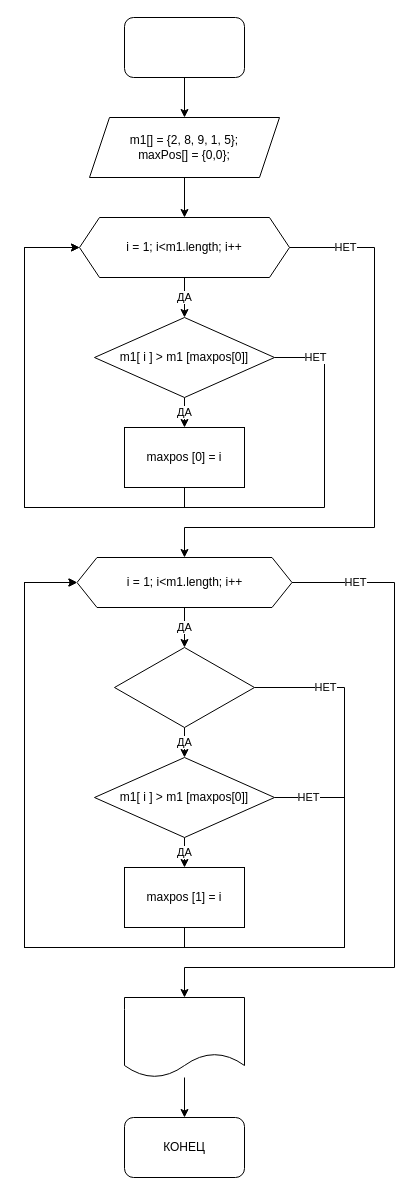
Some shapes in this 420 by 1195 pixel diagram are drawn without their labels. Here are the shapes that lost their labels. From the top down, the box of each, then its label:
(124, 16, 244, 78): НАЧАЛО
(114, 646, 254, 728): i <> maxpos[0]
(124, 996, 244, 1078): m1 [maxpos[1]]
